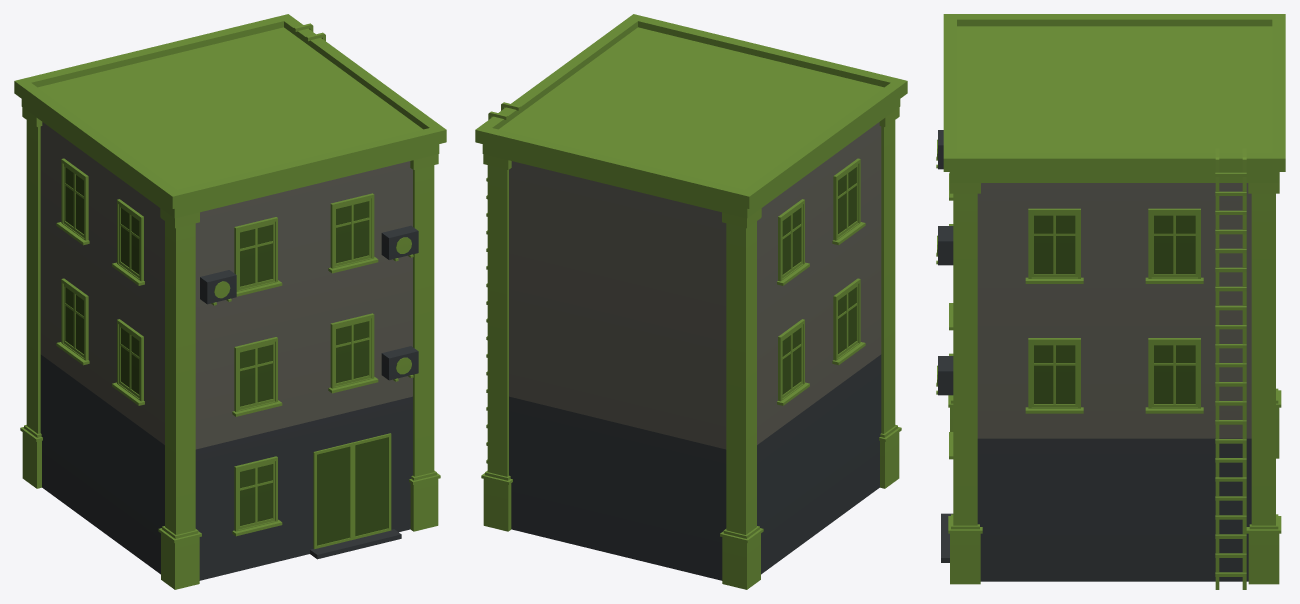
File: House_14.fbx
The picture shows the model from 3 angles, left to right: view 1: azimuth 30°, elevation 25°; view 2: azimuth 150°, elevation 25°; view 3: azimuth 270°, elevation 25°; orthographic projection. The views are drawn at different scales.
Visible parts, largest first — view 1: House_14; view 2: House_14; view 3: House_14.
Part boxes in pixels (box(x1,y1,x2,y2)): House_14: box(14, 14, 446, 589); House_14: box(475, 14, 907, 589); House_14: box(936, 14, 1285, 589).
Size of the model in its own units: 6.68 by 9.07 by 6.65.
